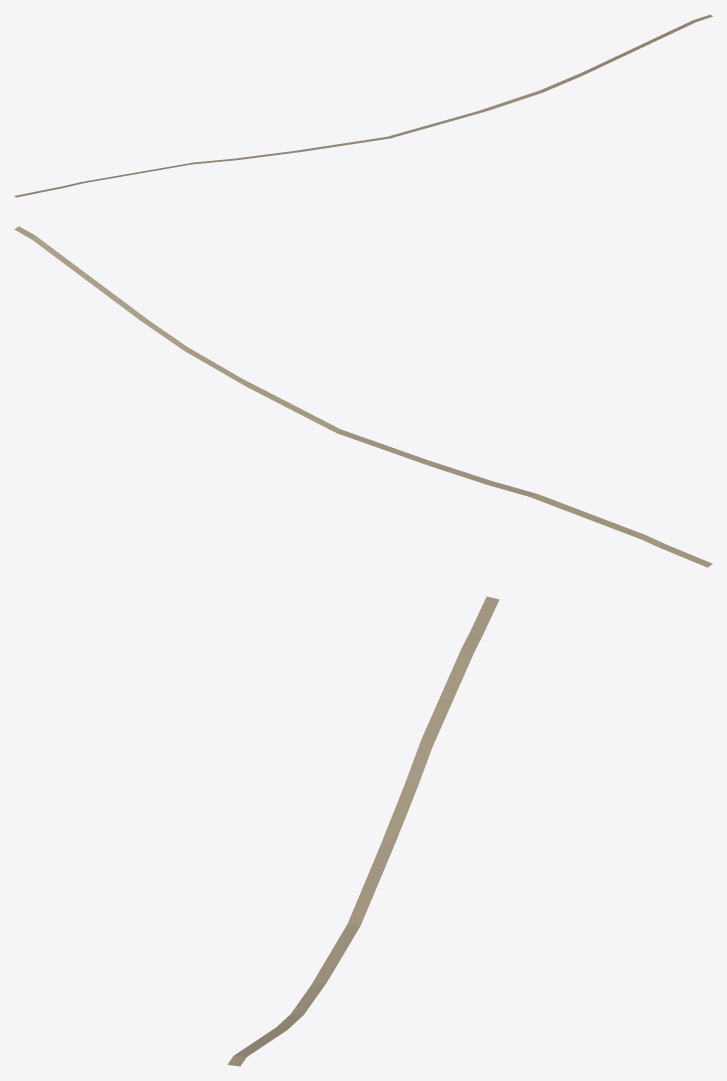
File: farm_-3_-3_track.glb
3 renders of one model, top to bottom at view 1: azimuth 30°, elevation 25°; view 2: azimuth 150°, elevation 25°; view 3: azimuth 270°, elevation 25°, orthographic. The views are drawn at different scales.
Visible parts, largest first — view 1: geometry_0; view 2: geometry_0; view 3: geometry_0.
Boxes of the visible parts, x1,y1,x2,y2 form: geometry_0: (14,14,712,197); geometry_0: (14,226,712,567); geometry_0: (227,596,499,1066).
Size of the model in its own units: 365 by 41.5 by 67.99.
